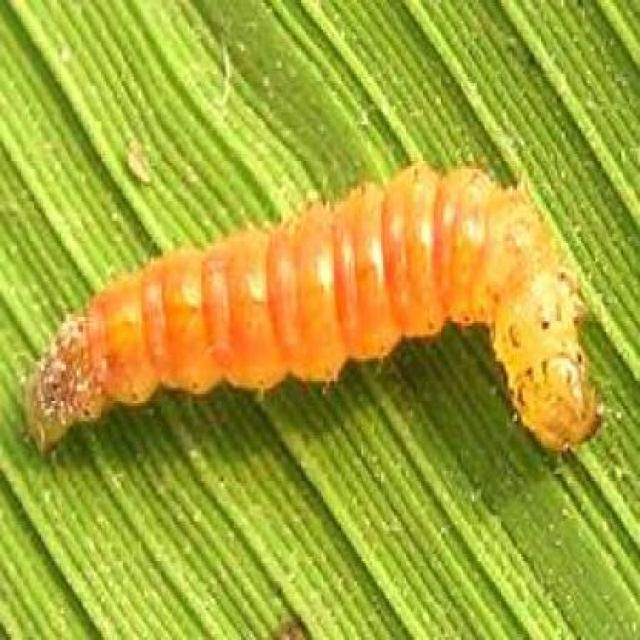leaf-folder: (22, 160, 604, 446)
